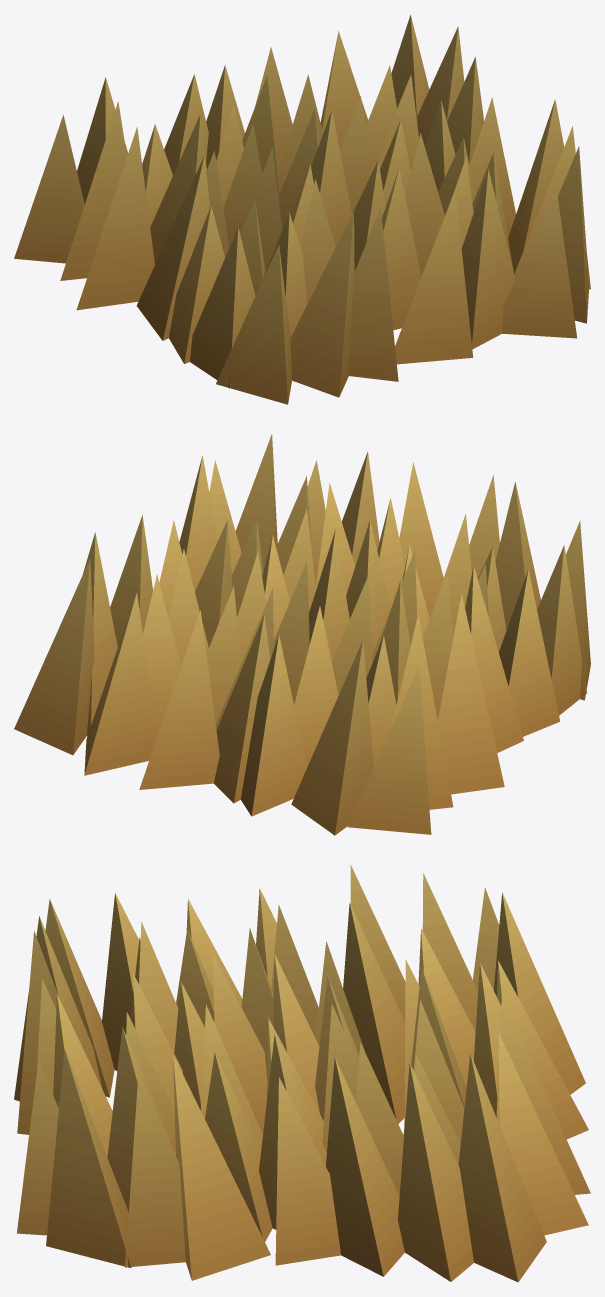
Rendered from cn_wheat_patch_1.glb.
The picture shows the model from 3 angles, top to bottom: view 1: azimuth 30°, elevation 25°; view 2: azimuth 150°, elevation 25°; view 3: azimuth 270°, elevation 25°; orthographic projection. The views are drawn at different scales.
Visible parts, largest first — view 1: cn_wheat_patch_2; view 2: cn_wheat_patch_2; view 3: cn_wheat_patch_2.
Boxes of the visible parts, <box> form: cn_wheat_patch_2: <box>14,14,590,404</box>; cn_wheat_patch_2: <box>14,434,590,835</box>; cn_wheat_patch_2: <box>14,865,590,1282</box>.
Bounding box in the file's own units: 2.27 × 0.8973 × 2.28.
Materials: 1 (1 with a texture image).
